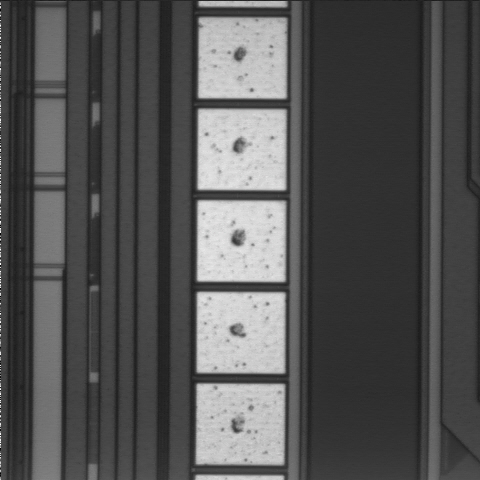pad: (198, 109, 286, 190), (197, 201, 285, 282), (197, 292, 285, 373), (196, 384, 284, 464), (199, 18, 286, 98)
